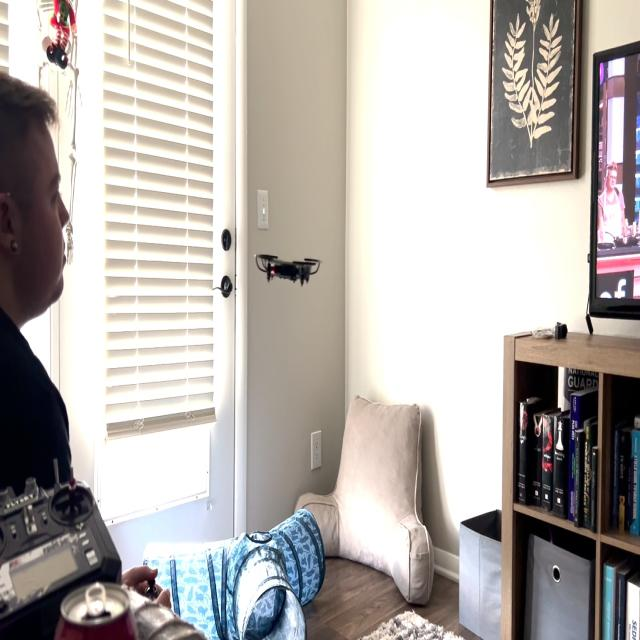drone: (248, 240, 324, 298)
